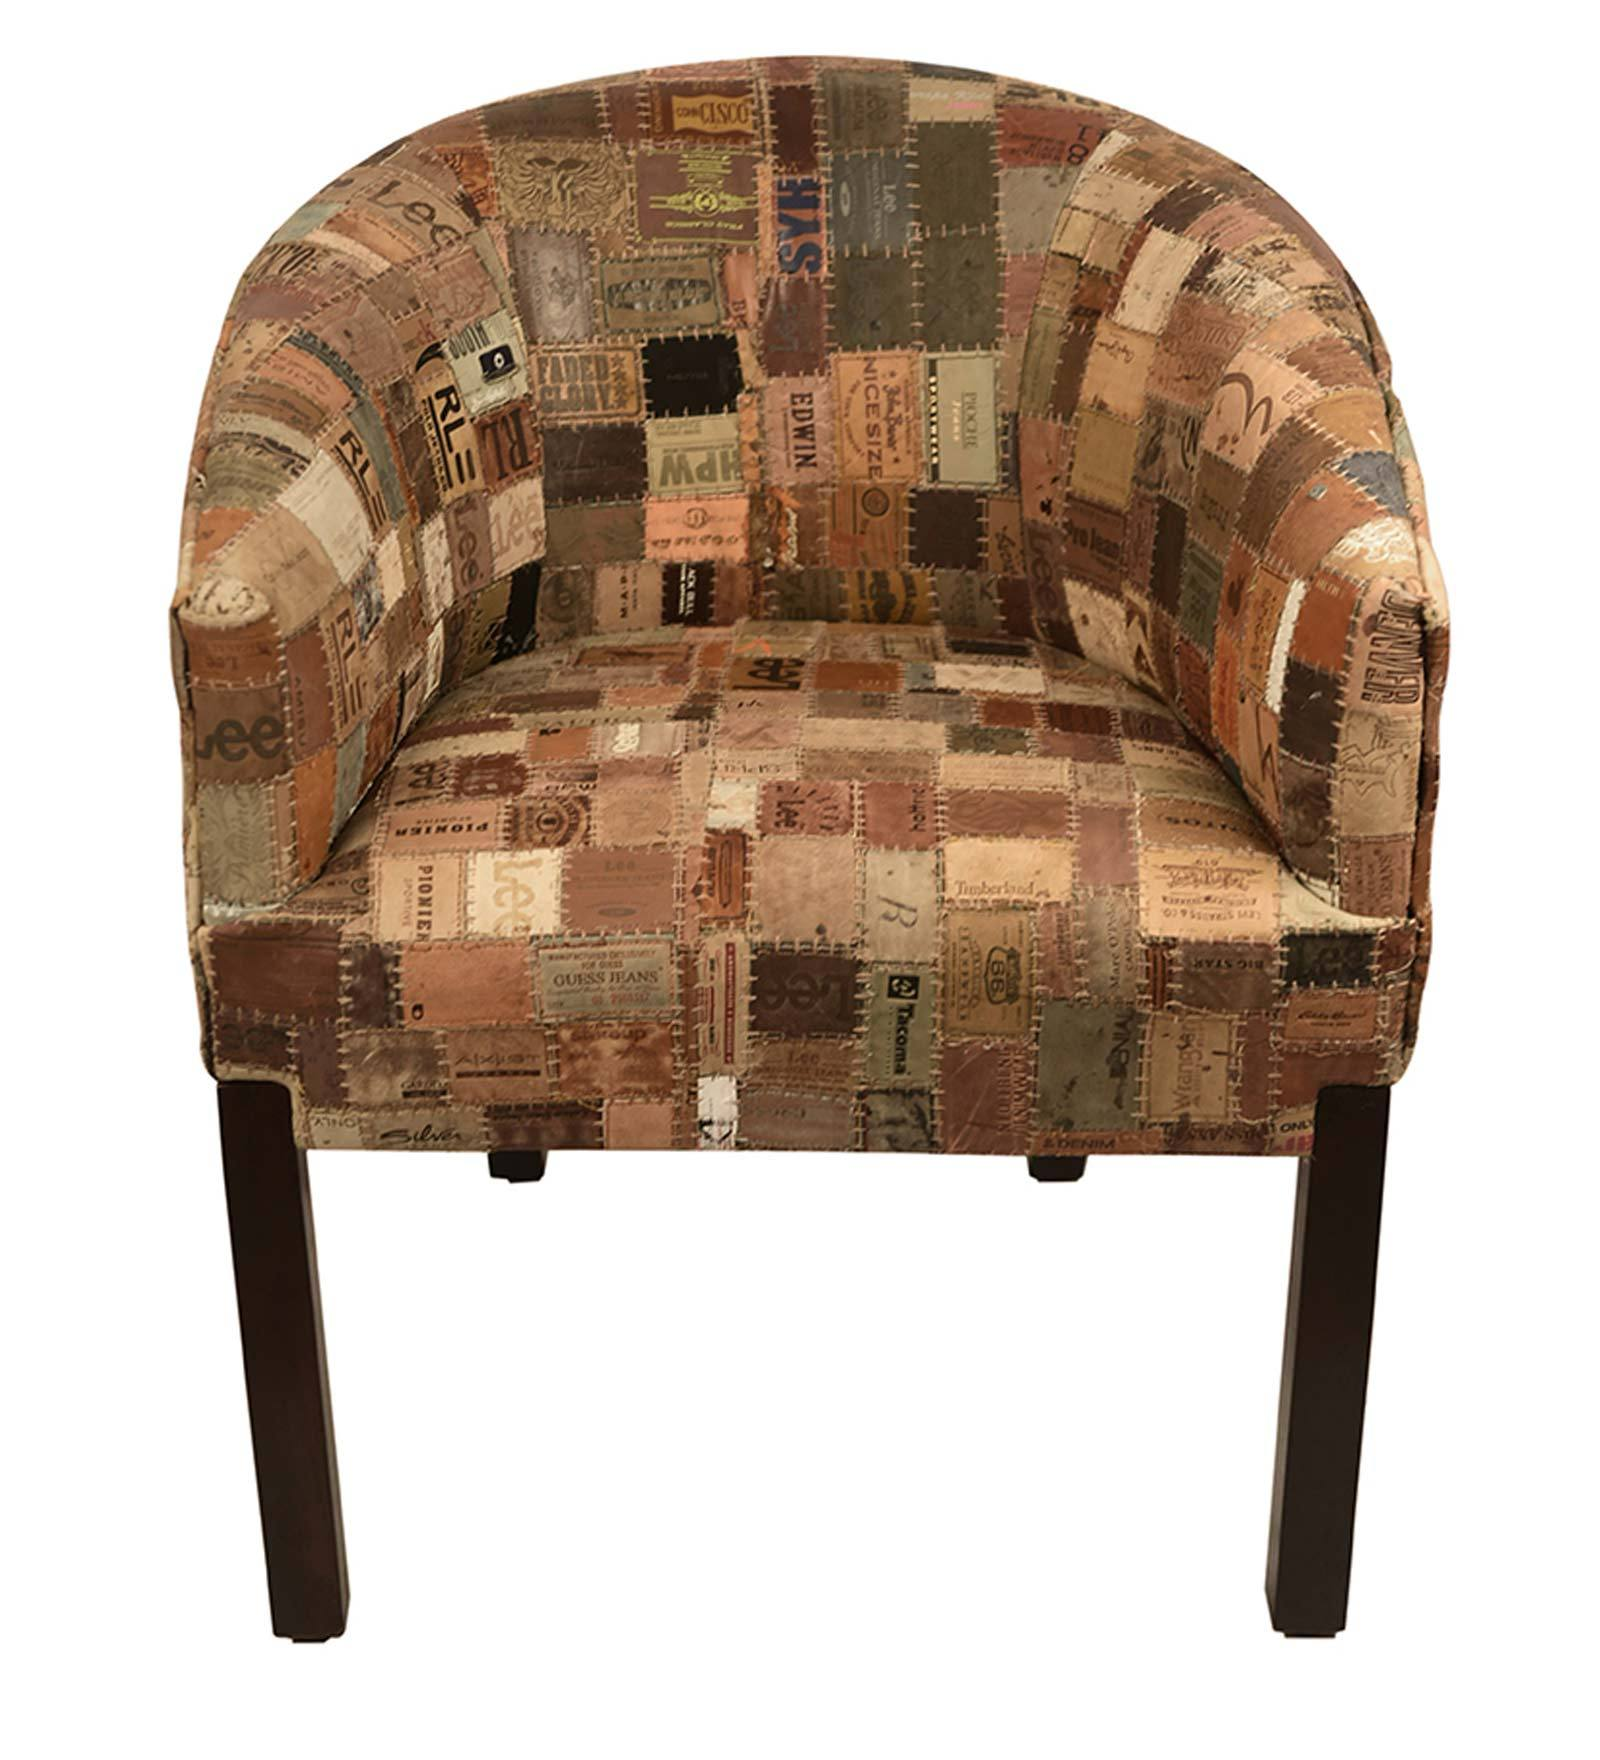Toby Tob Innova Chair with Denim Label Patch Design by Inliving: (123, 57, 1493, 1680)
